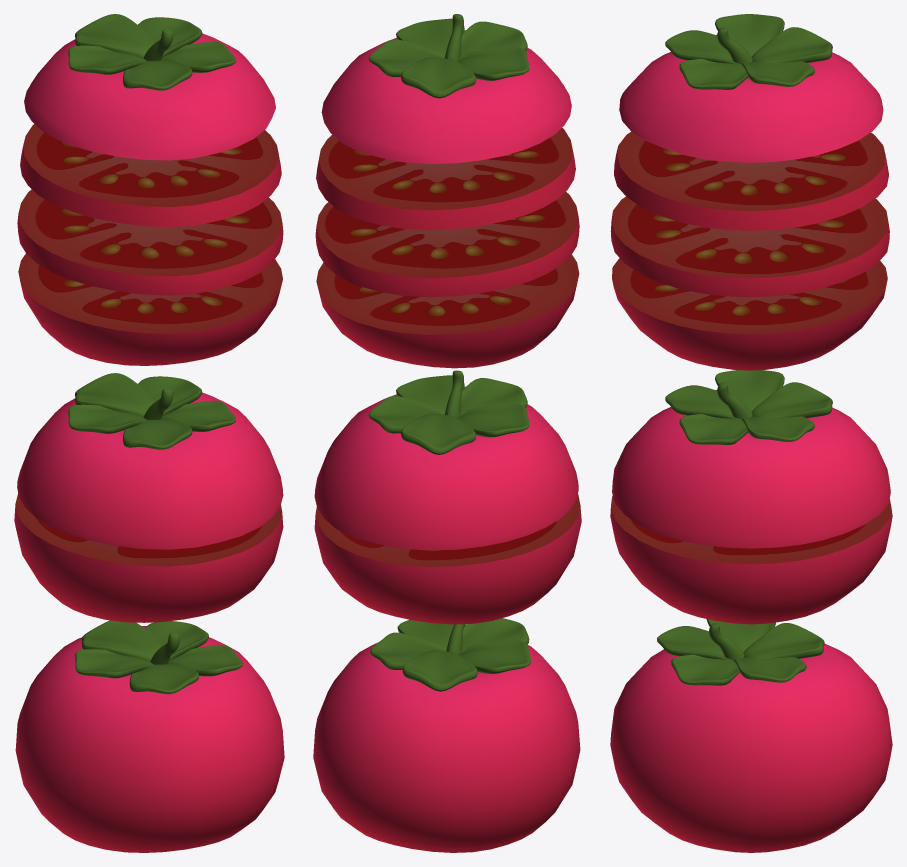
The model's file is Full_Tomato.fbx.
3 views of the same model, side by side, from view 1: azimuth 30°, elevation 25°; view 2: azimuth 150°, elevation 25°; view 3: azimuth 270°, elevation 25° (orthographic).
Parts seen in each view (by area): view 1: Sphere, Sphere.001, Sphere.005, Sphere.003, Sphere.007, Sphere.006, Sphere.004; view 2: Sphere, Sphere.001, Sphere.005, Sphere.003, Sphere.007, Sphere.004, Sphere.006; view 3: Sphere, Sphere.001, Sphere.005, Sphere.003, Sphere.004, Sphere.007, Sphere.006.
Boxes of the visible parts, box(x1,y1,x2,y2) form: Sphere: box(15, 620, 284, 852); Sphere.001: box(17, 373, 283, 549); Sphere.005: box(24, 14, 275, 160); Sphere.003: box(14, 493, 283, 622); Sphere.007: box(17, 189, 283, 295); Sphere.006: box(18, 253, 282, 365); Sphere.004: box(20, 124, 281, 227); Sphere: box(313, 618, 580, 852); Sphere.001: box(314, 370, 578, 550); Sphere.005: box(321, 14, 571, 163); Sphere.003: box(314, 494, 581, 624); Sphere.007: box(315, 192, 579, 297); Sphere.004: box(316, 128, 575, 230); Sphere.006: box(316, 255, 579, 368); Sphere: box(610, 619, 892, 852); Sphere.001: box(612, 370, 890, 548); Sphere.005: box(619, 14, 883, 162); Sphere.003: box(610, 495, 892, 624); Sphere.004: box(614, 131, 888, 230); Sphere.007: box(610, 197, 889, 297); Sphere.006: box(612, 258, 887, 370).
Bounding box in the file's own units: 43.22 × 142 × 45.93.
1 material, 1 textured.
